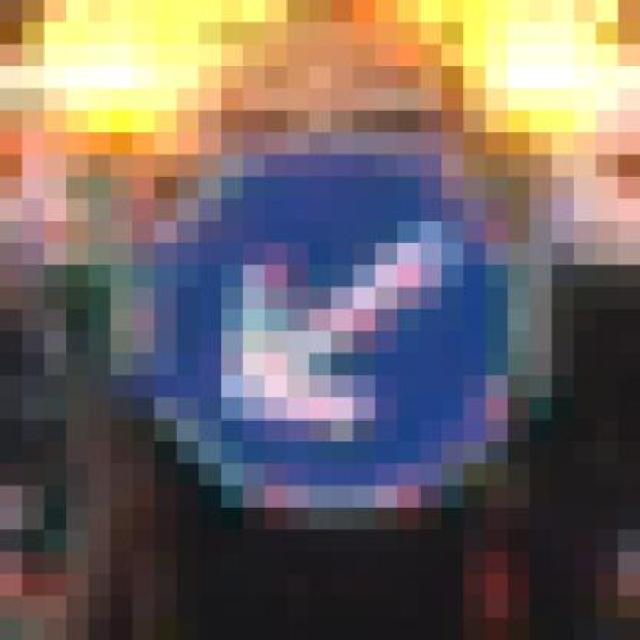Keep-Left: (154, 111, 574, 574)
